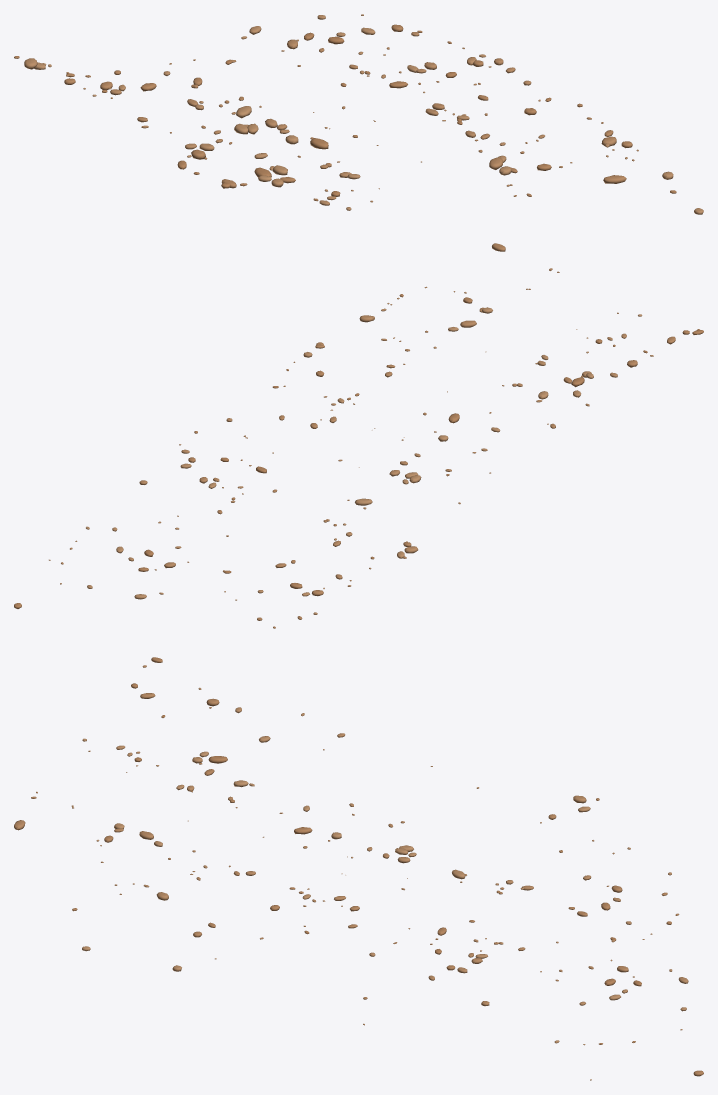
Rendered from terrain-107.glb.
3 views of the same model, one above another, from view 1: azimuth 30°, elevation 25°; view 2: azimuth 150°, elevation 25°; view 3: azimuth 270°, elevation 25° (orthographic). The views are drawn at different scales.
Visible parts, largest first — view 1: terrain-107; view 2: terrain-107; view 3: terrain-107.
Boxes of the visible parts, x1,y1,x2,y2 form: terrain-107: (14, 14, 703, 214); terrain-107: (14, 243, 703, 628); terrain-107: (14, 657, 703, 1080).
Bounding box in the file's own units: 51.41 × 20.96 × 65.54.
